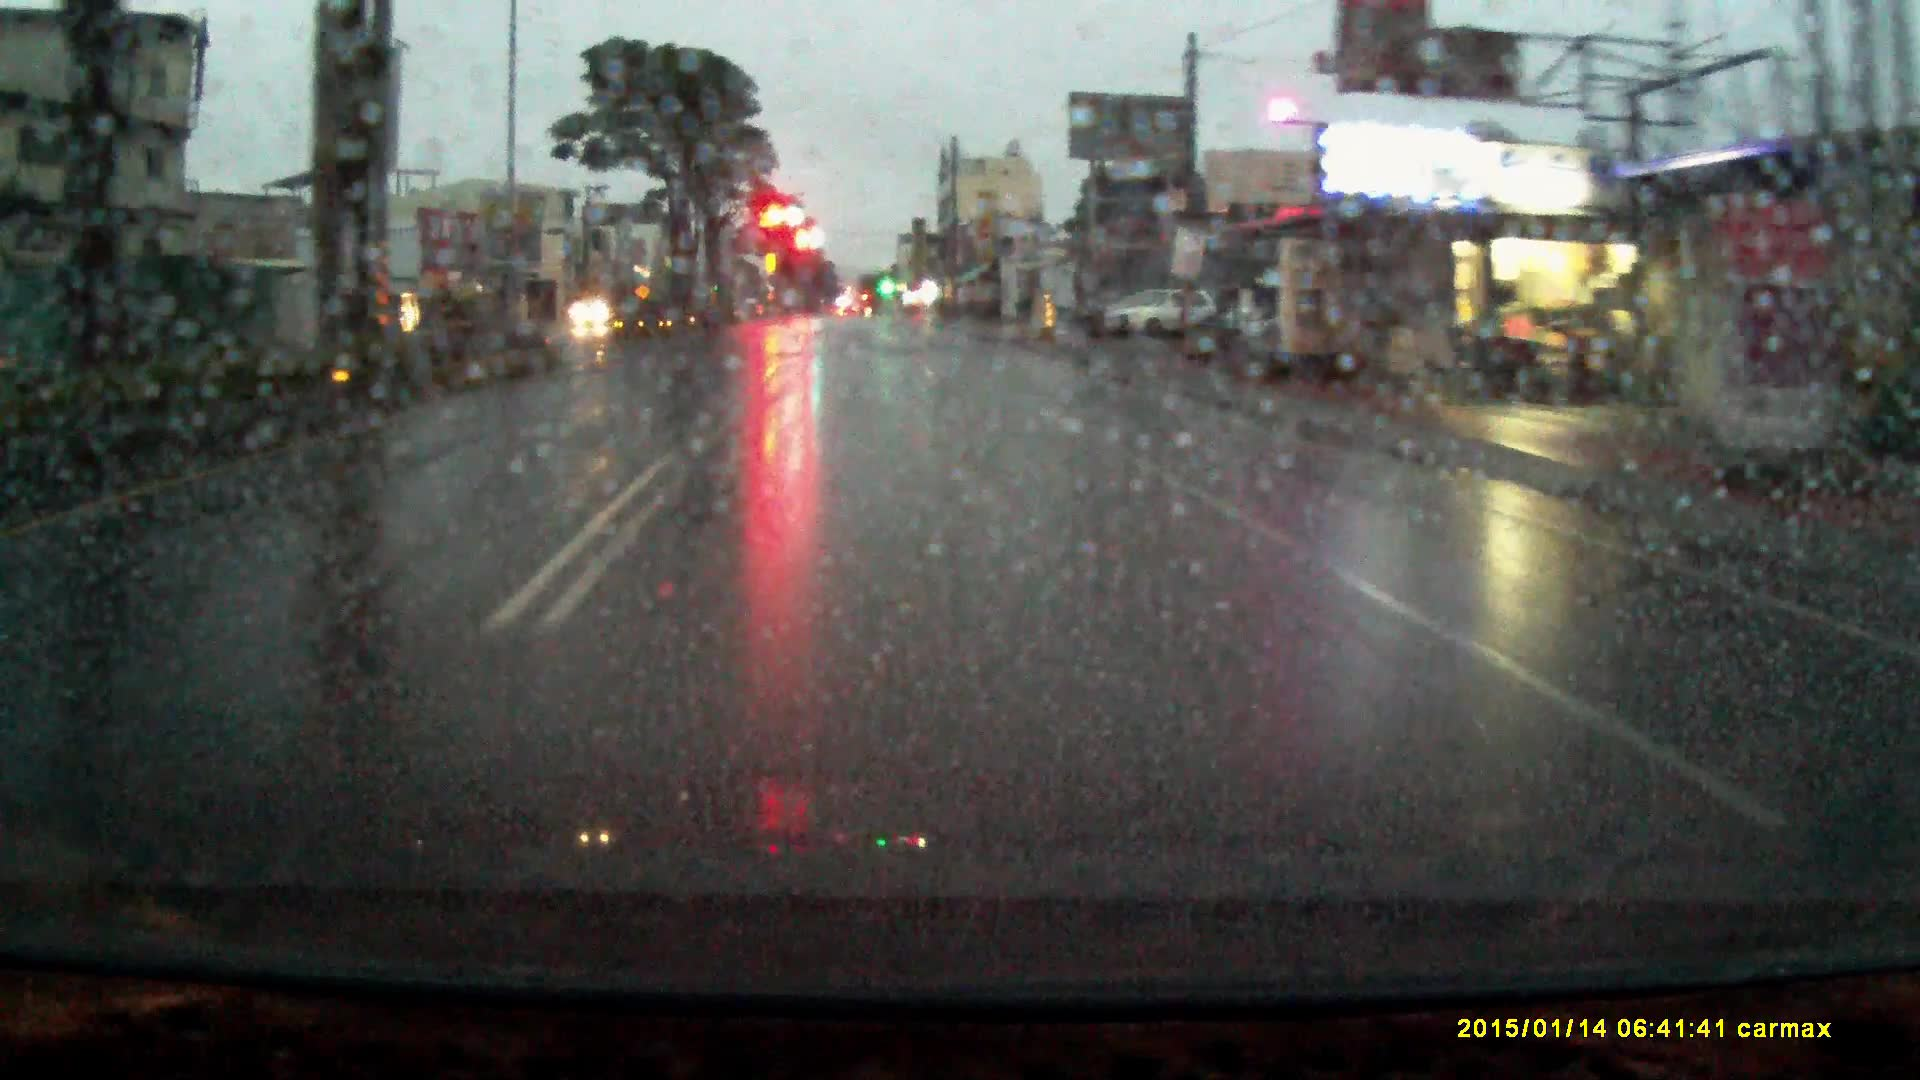vehicle: (1105, 284, 1222, 342), (568, 294, 617, 328)
